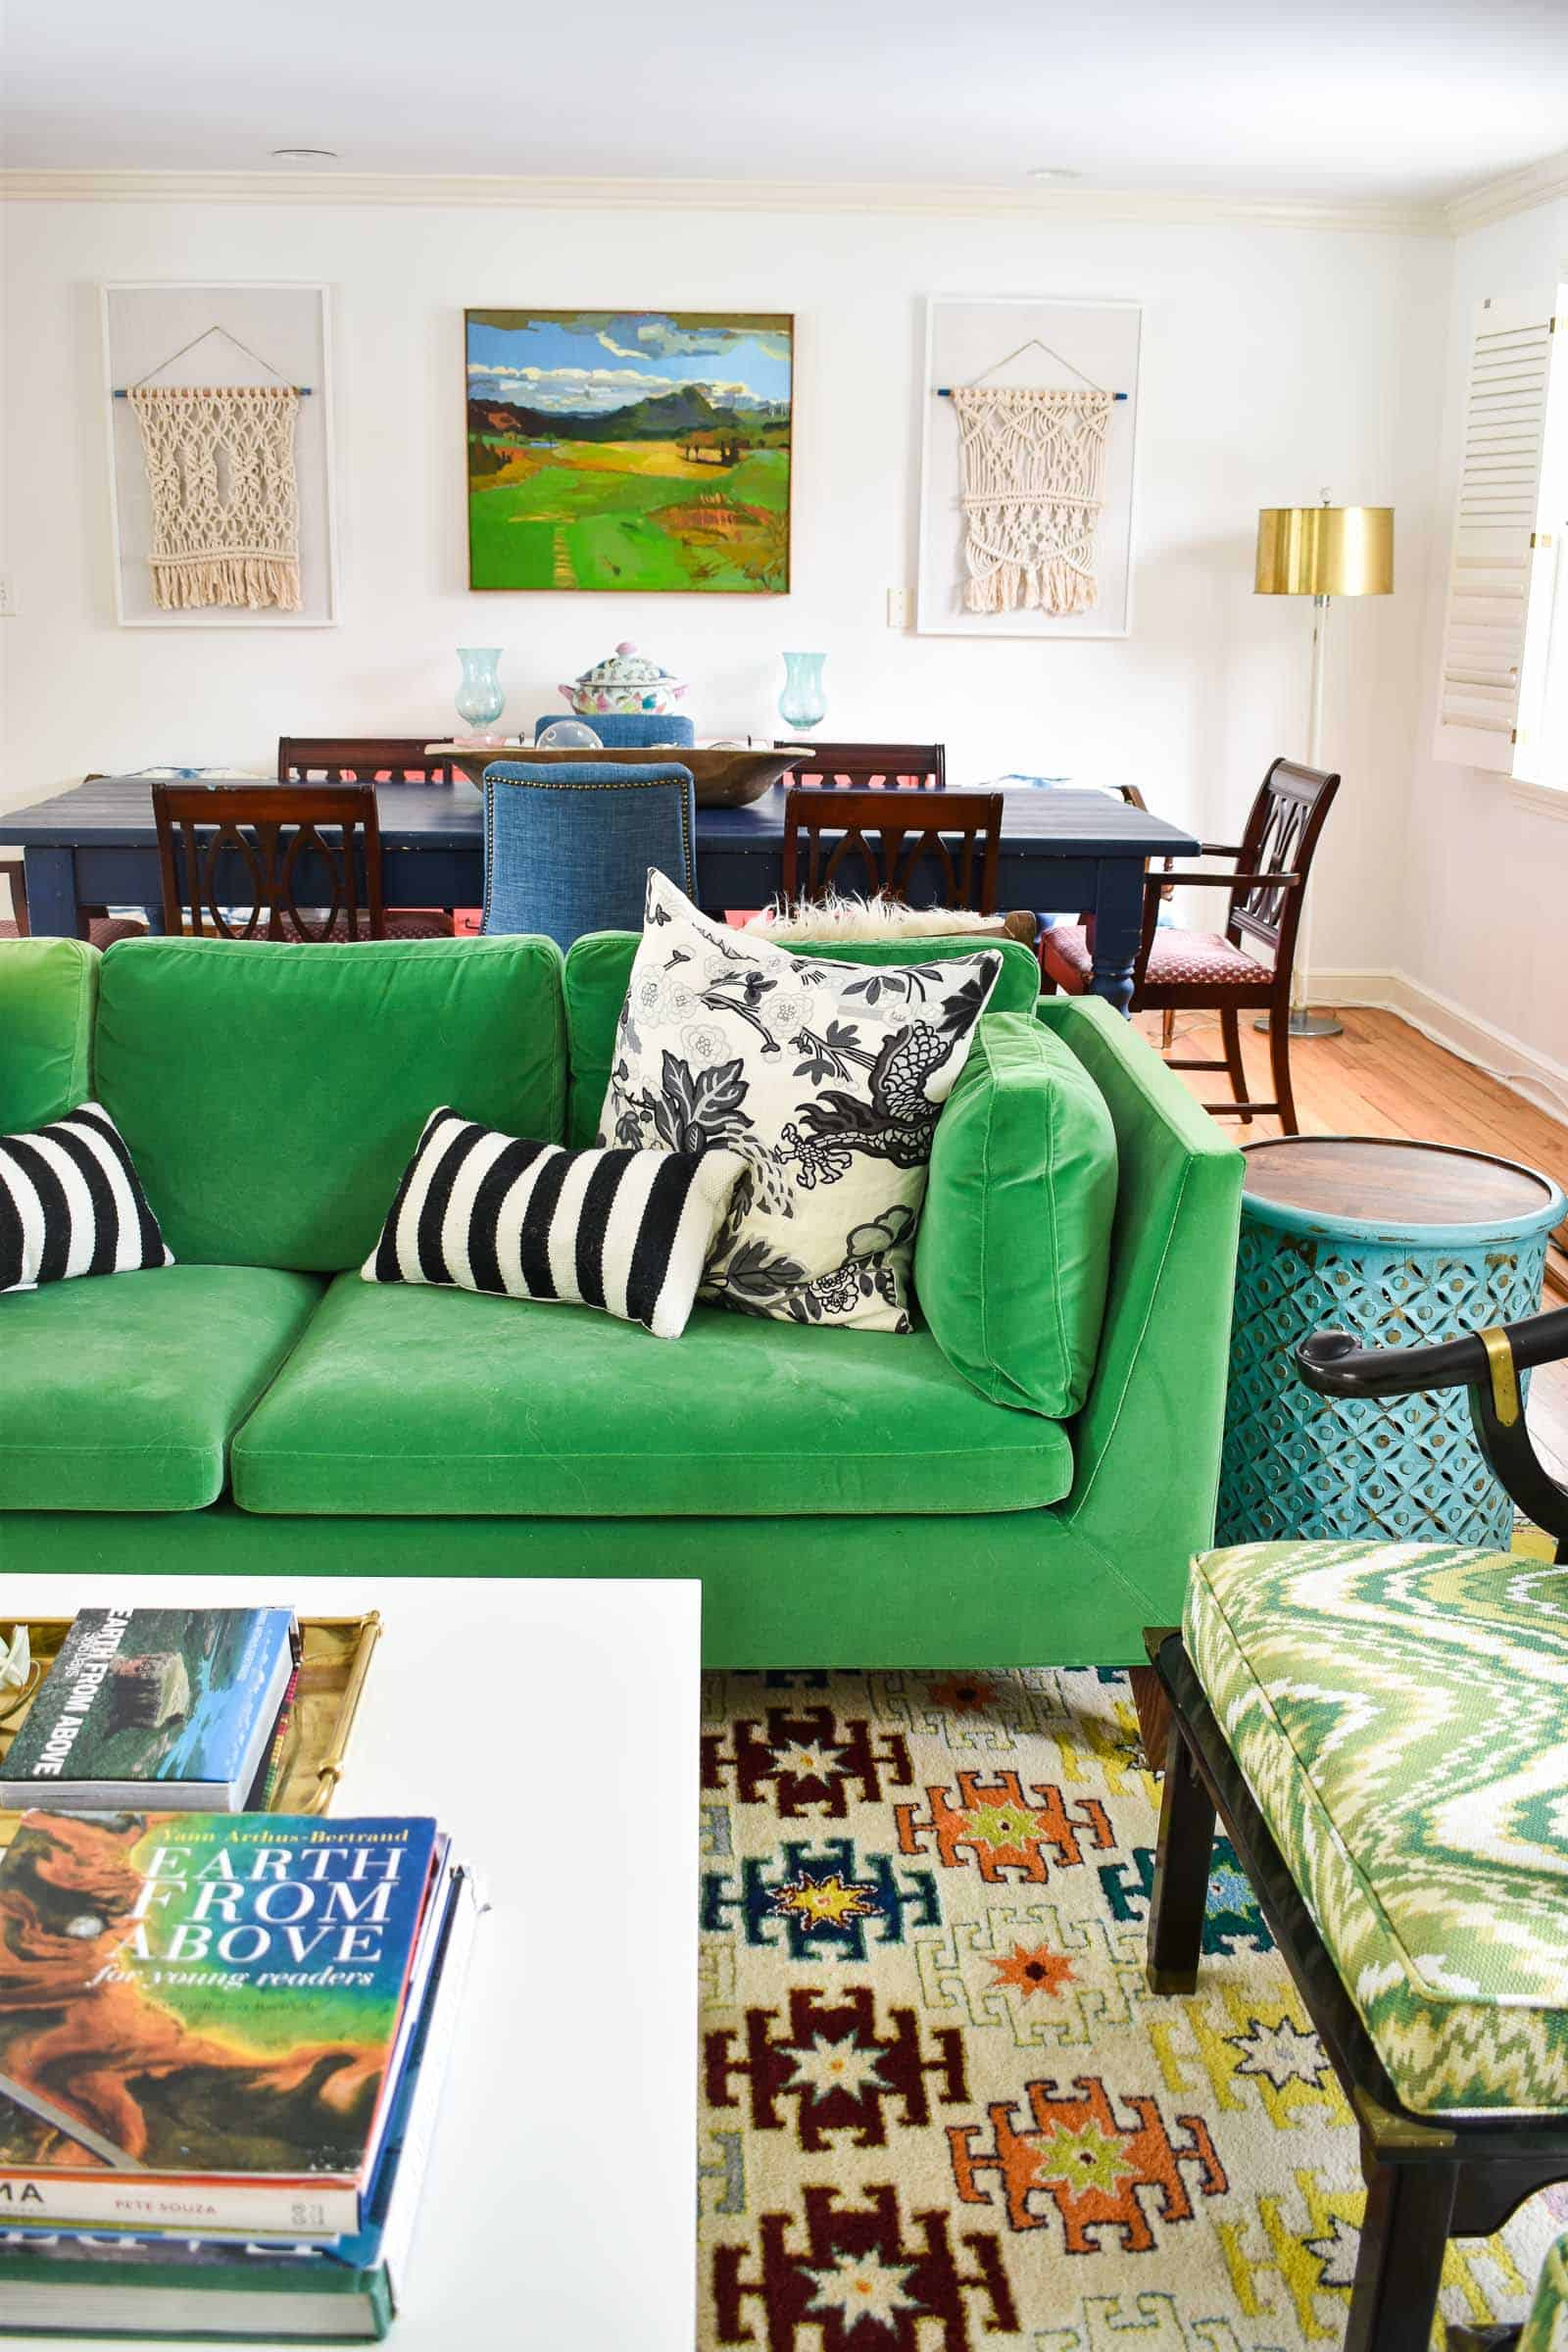biru: (476, 737, 707, 920)
coklat: (143, 779, 387, 914), (780, 786, 997, 901), (1255, 761, 1318, 950)
hijau: (2, 927, 1227, 1561)
putih: (7, 1571, 709, 2352)
